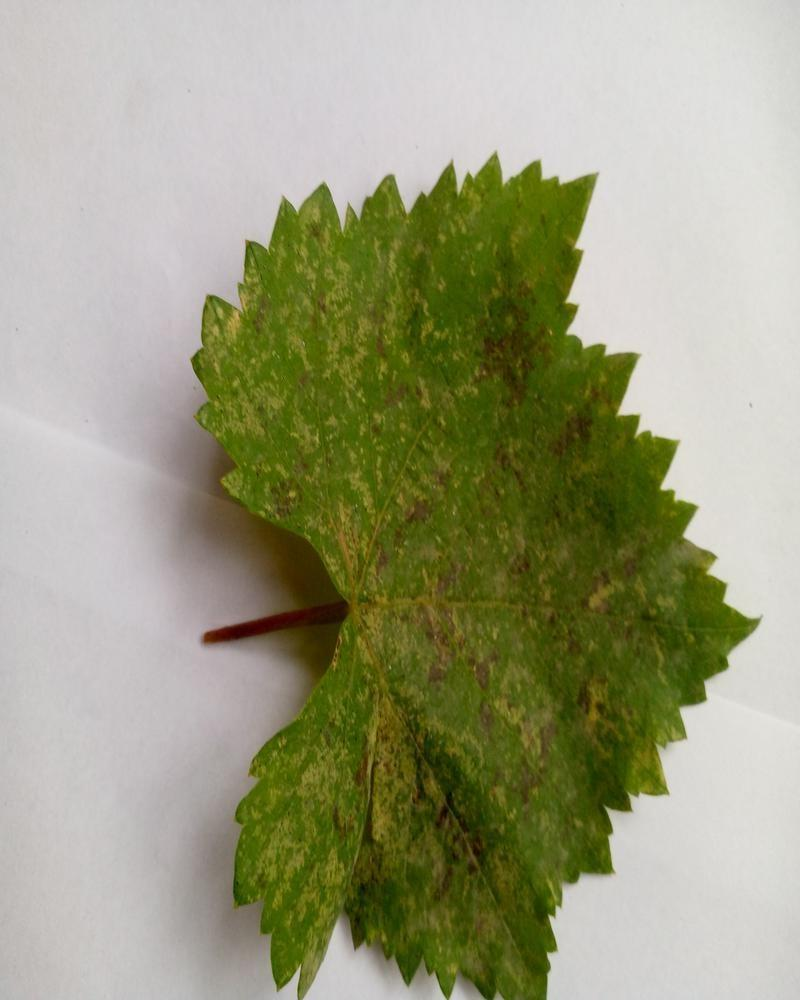Powdery-Mildew: (409, 578, 556, 751), (346, 679, 467, 849), (311, 266, 430, 403), (575, 541, 702, 655), (317, 472, 425, 596), (461, 304, 558, 438), (572, 688, 635, 751)
